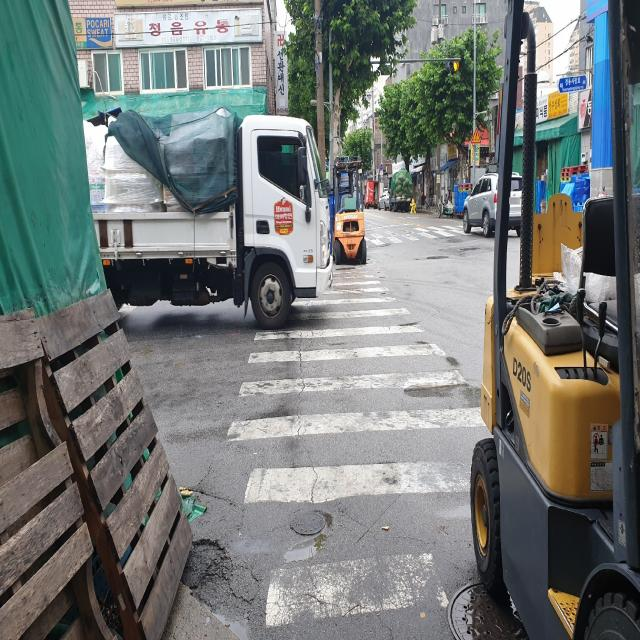횡단보도: (224, 268, 488, 629), (366, 221, 468, 241)
